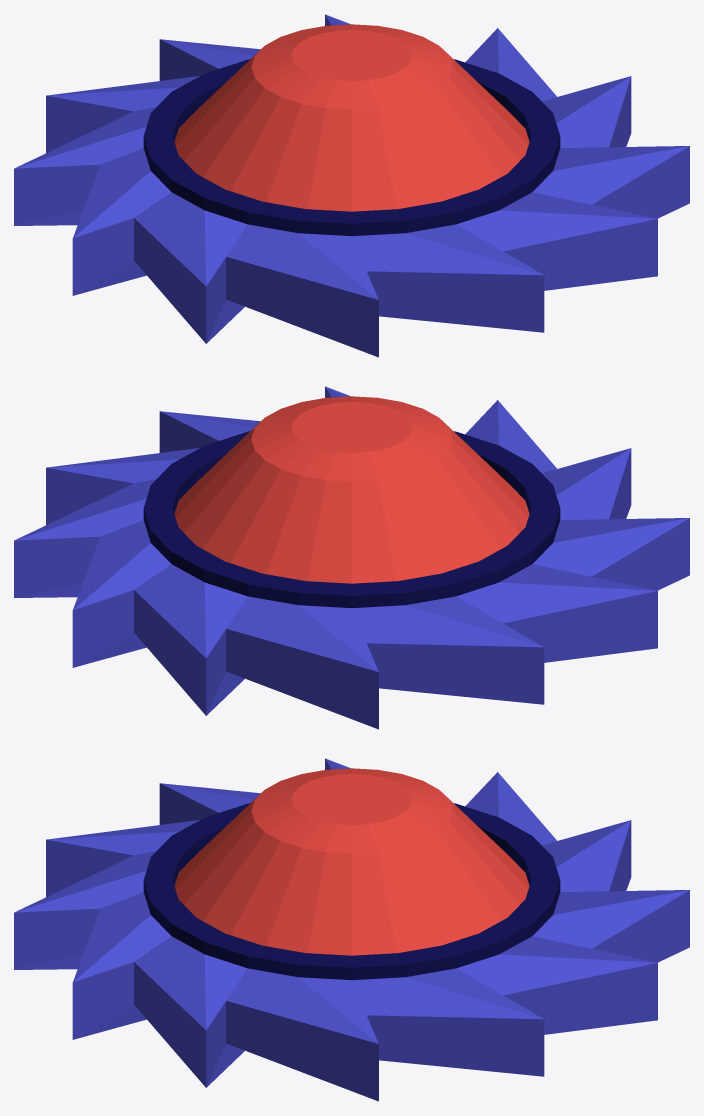
Rendered from bıcak1.fbx.
The picture shows the model from 3 angles, top to bottom: view 1: azimuth 30°, elevation 25°; view 2: azimuth 150°, elevation 25°; view 3: azimuth 270°, elevation 25°; orthographic projection.
Visible parts, largest first — view 1: Cylinder; view 2: Cylinder; view 3: Cylinder.
Boxes of the visible parts, bbox=[...] form: Cylinder: bbox=[14, 14, 689, 357]; Cylinder: bbox=[14, 386, 689, 729]; Cylinder: bbox=[14, 758, 689, 1101].
Size of the model in its own units: 152 by 56.05 by 152.
